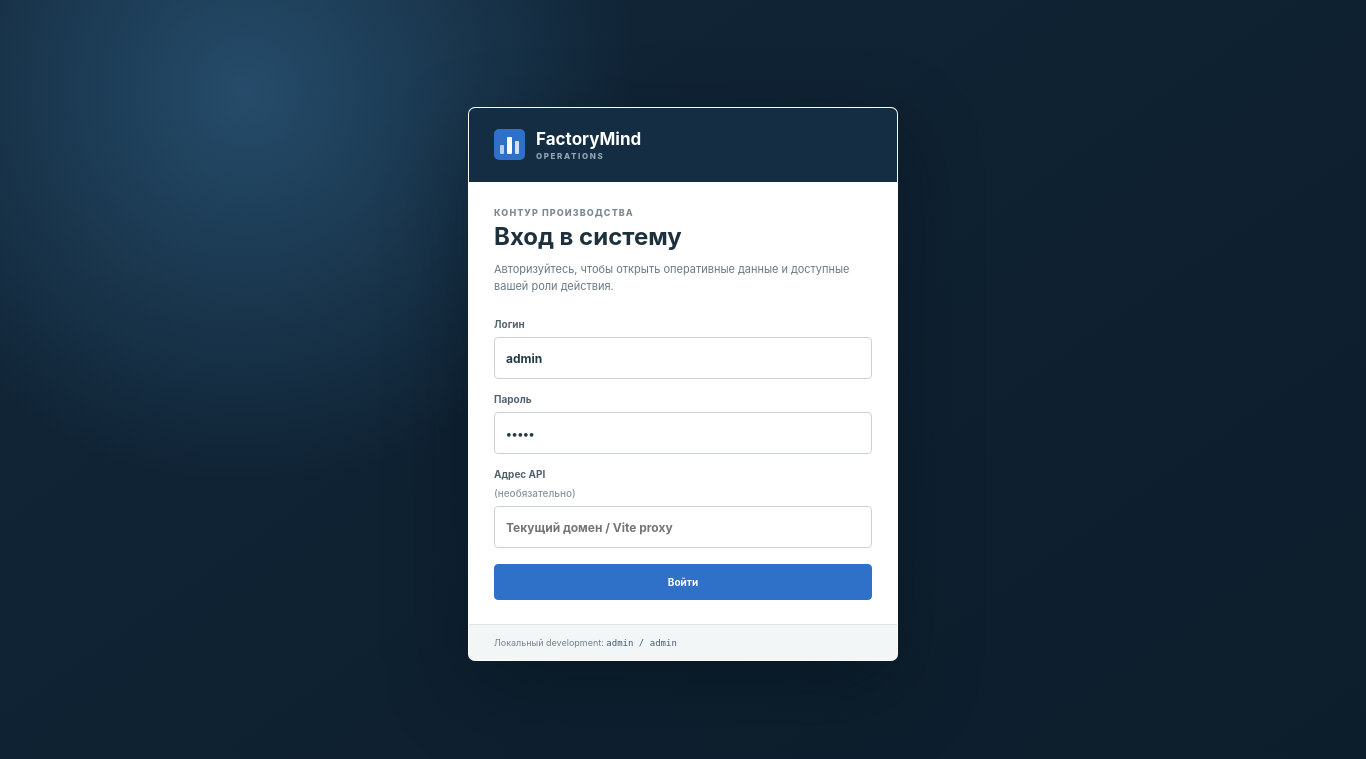
Test: Аутентификация оператора › после успешного входа загружает рабочий экран
Click the button "Войти" at (683, 582), box [494, 564, 872, 600]
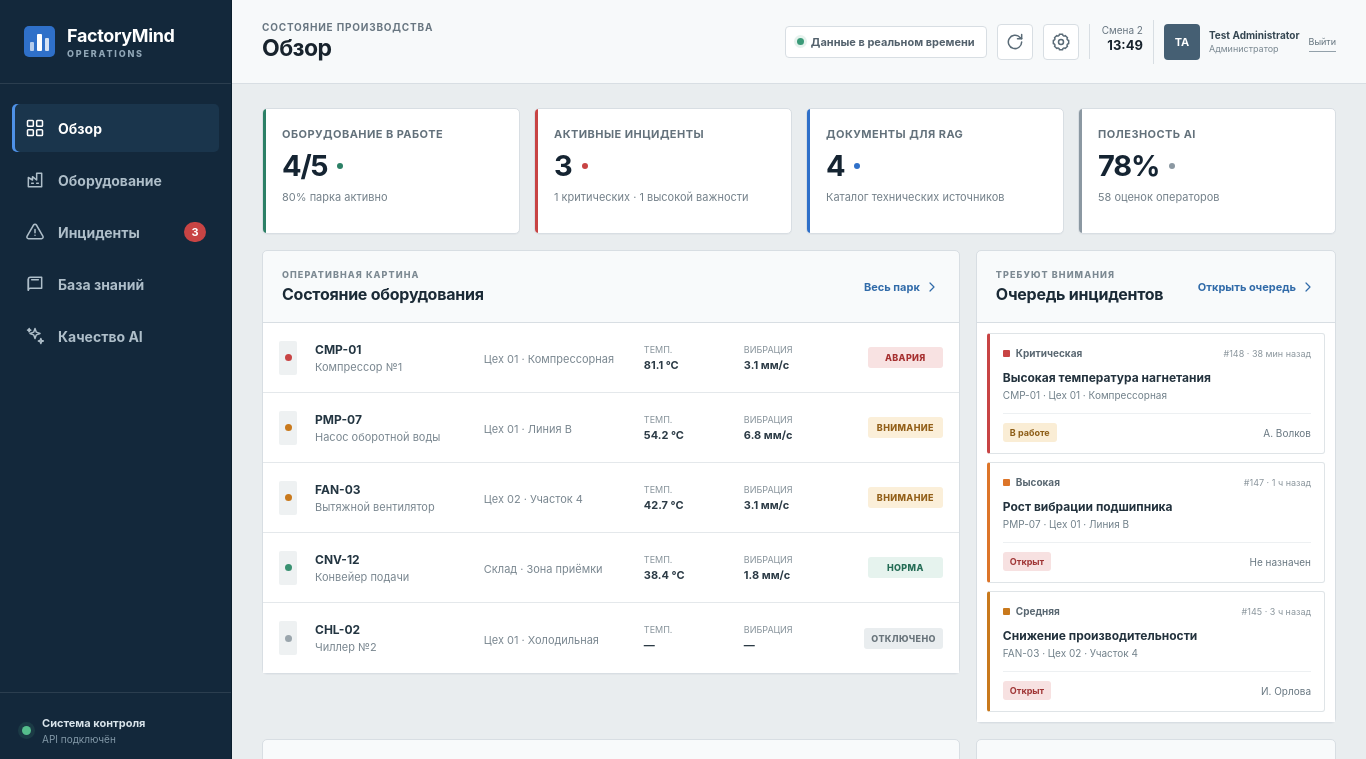
Result: the text "Данные в реальном времени" is shown at [785, 26, 987, 58]
